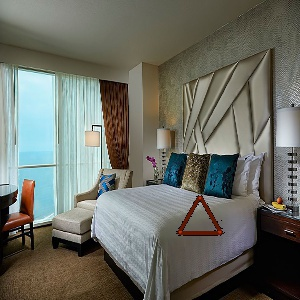triangle: (173, 193, 227, 239)
